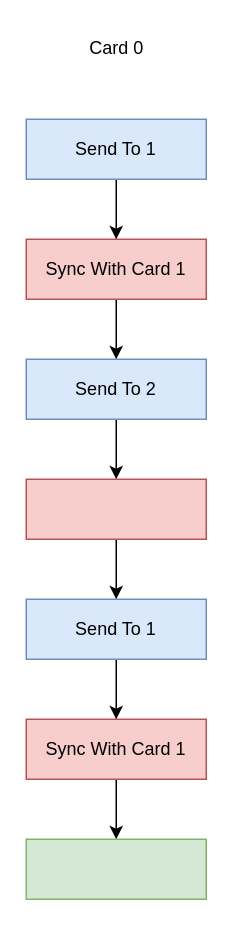
Some shapes in this 233 by 926 pixel diagram are drawn without their labels. The shapes that lost their labels are listed below. From the top down, each one's centre as x and y in pixels, then its label:
(x=115, y=508): Sync With Card 2
(x=115, y=868): Device Allreduce
